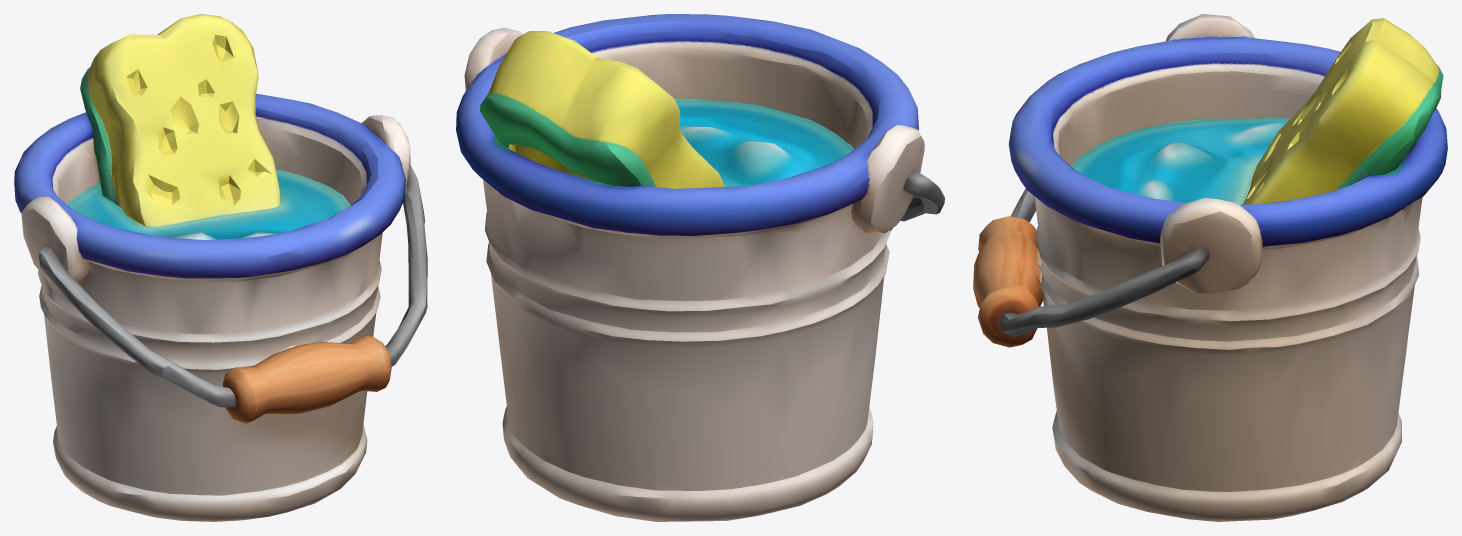
File: WaterBucket.glb
The picture shows the model from 3 angles, left to right: view 1: azimuth 30°, elevation 25°; view 2: azimuth 150°, elevation 25°; view 3: azimuth 270°, elevation 25°; orthographic projection. The views are drawn at different scales.
Visible parts, largest first — view 1: geometry_0; view 2: geometry_0; view 3: geometry_0.
Part boxes in pixels (x1=…): geometry_0: x1=14, y1=14, x2=427, y2=521; geometry_0: x1=456, y1=14, x2=944, y2=521; geometry_0: x1=973, y1=14, x2=1447, y2=521.
Size of the model in its own units: 0.14 by 0.1395 by 0.1375.
1 material, 1 textured.
